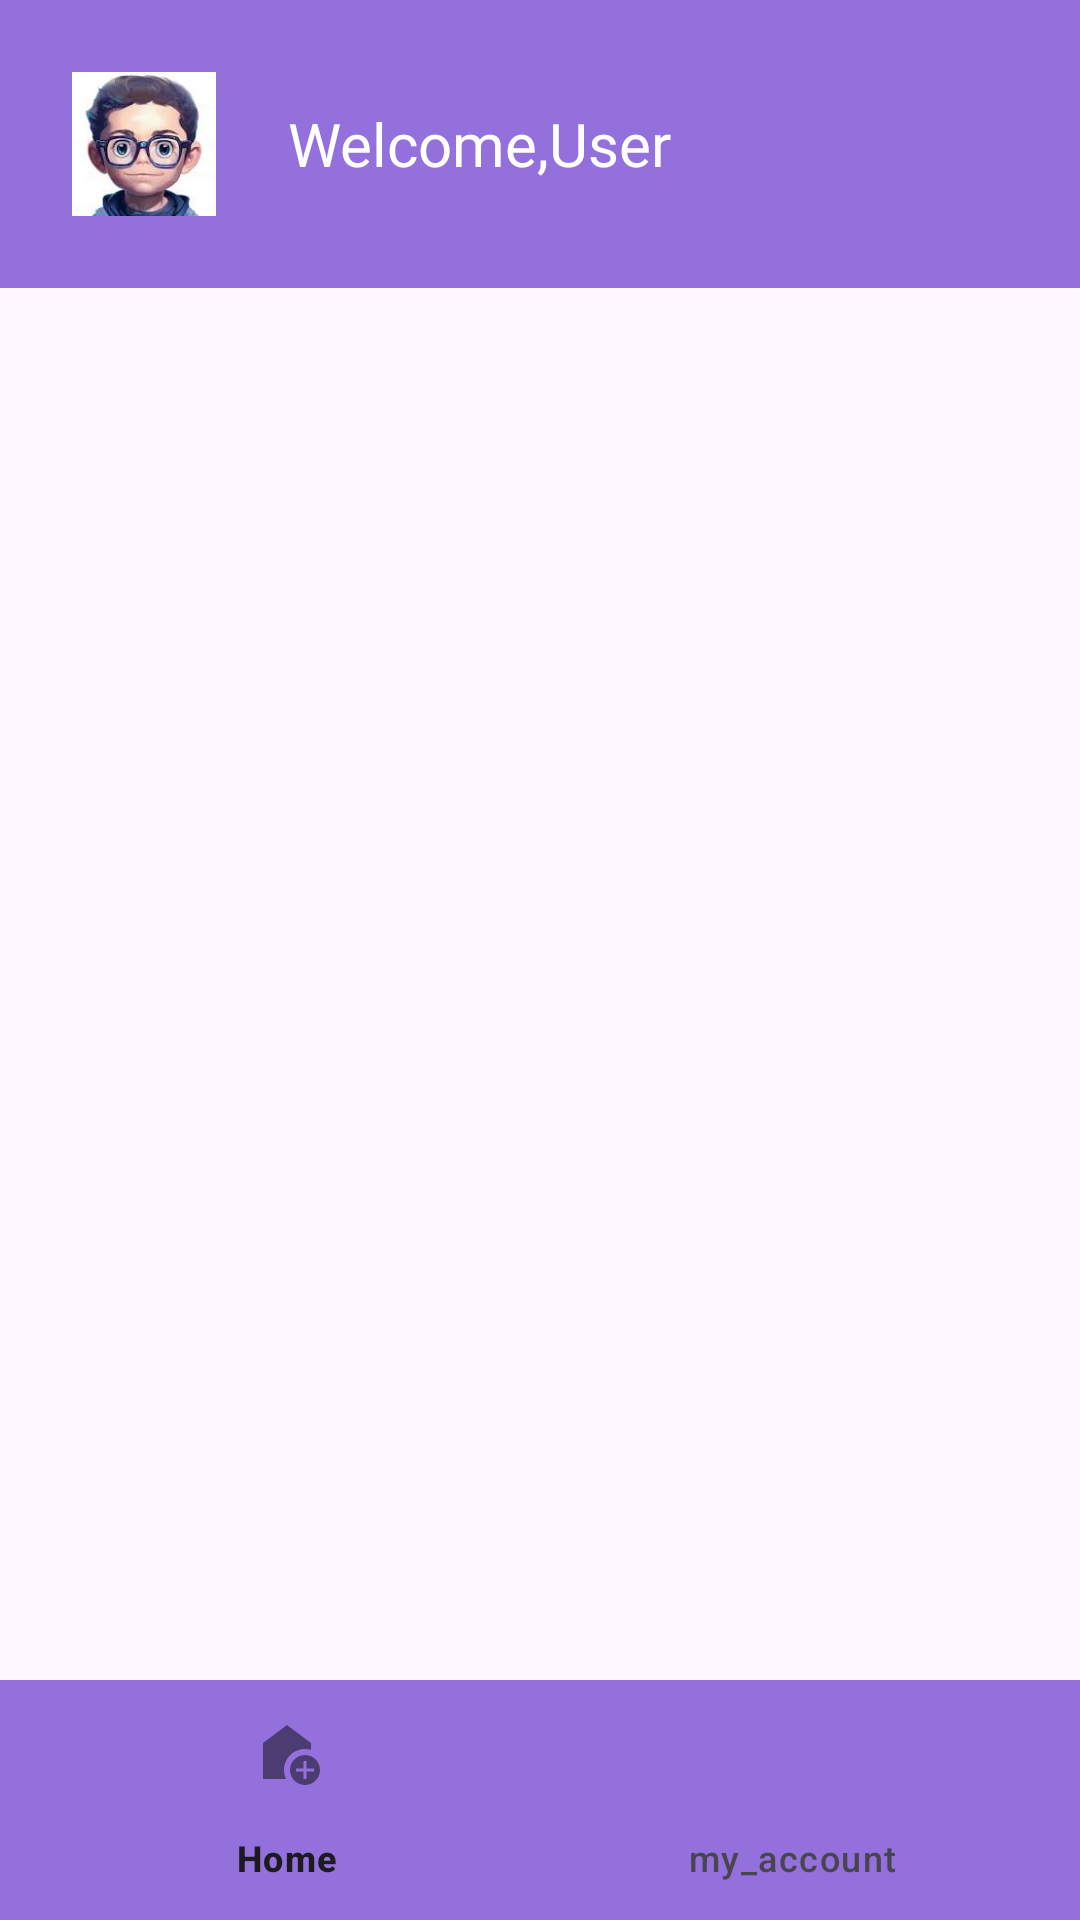

Named icons in this screenshot (1080*1920) and their bounding boxes, rect(x1, y1, x2, y2):
user profile: rect(72, 72, 216, 216)
